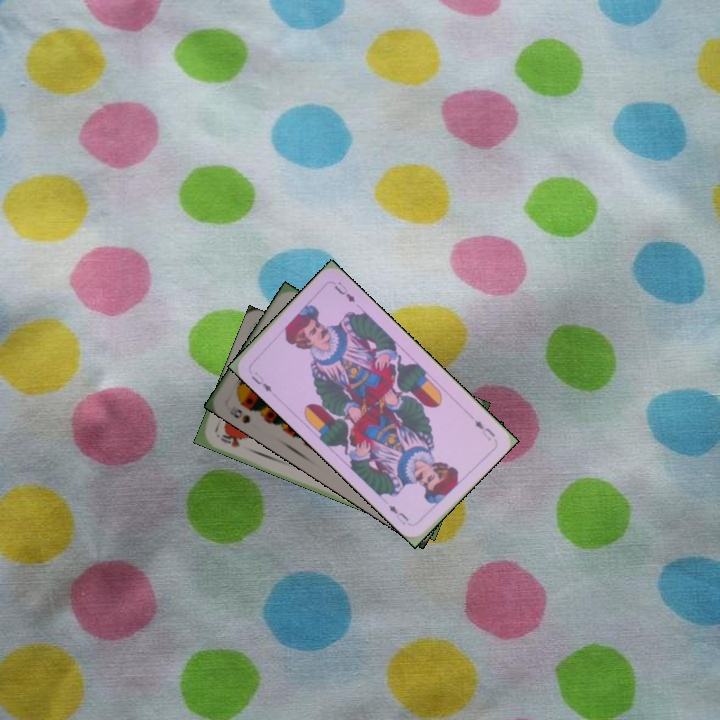EU: (470, 415, 498, 443), (248, 368, 274, 395)
HO: (216, 430, 245, 450)
S8: (230, 405, 253, 426)
